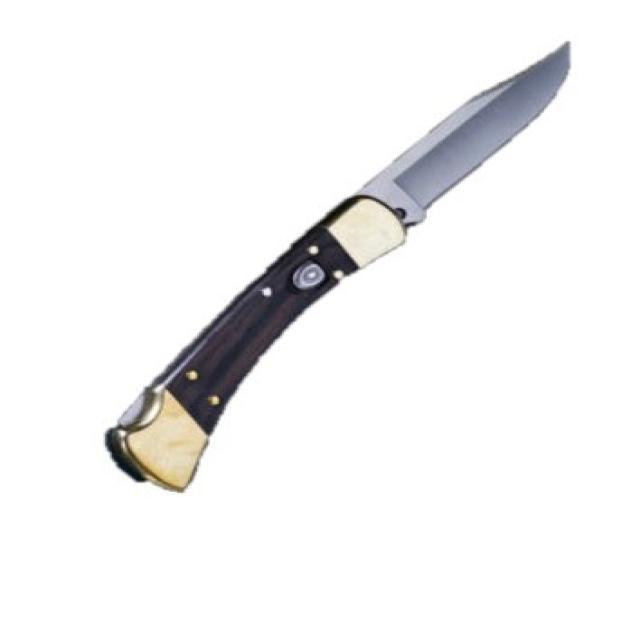knife: (108, 31, 602, 502)
